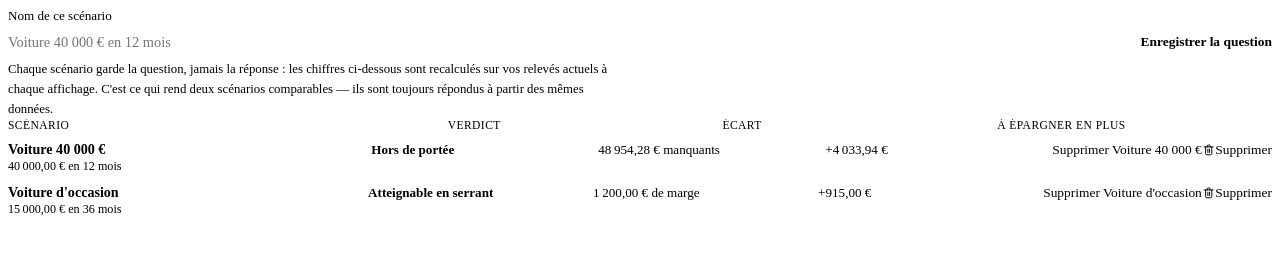
Test: ScenarioBar › renders the server's own refusal rather than an alert
Type "Un de trop" into the field labelled "Nom de ce scénario".
click(574, 42); type("Un de trop")  # box x1=8 y1=24 x2=1141 y2=60
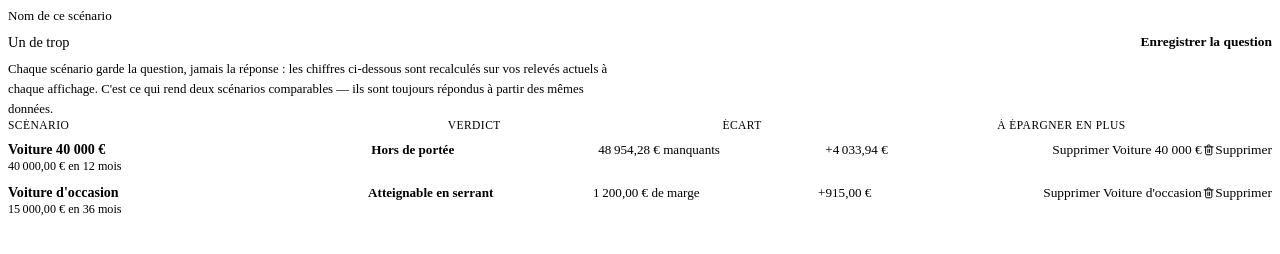
Click the button "Enregistrer la question".
click(1206, 42)  # box x1=1141 y1=24 x2=1272 y2=60
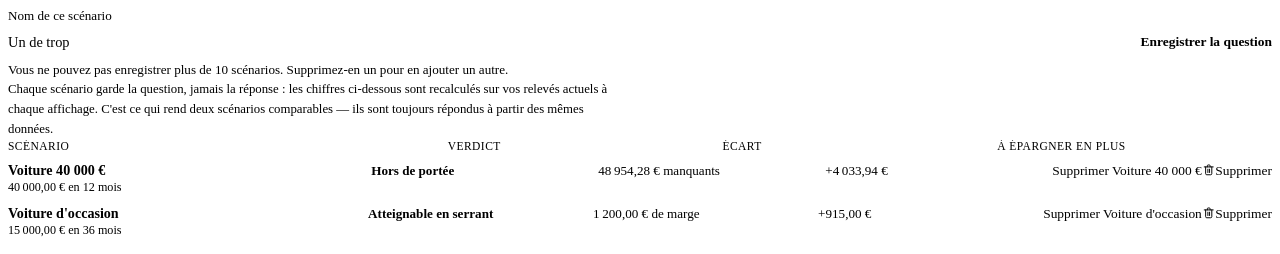
Check: the text "Vous ne pouvez pas enregistrer plus de 10 scénarios. Supprimez-en un pour en ajouter un autre." is shown, box x1=8 y1=62 x2=508 y2=77
